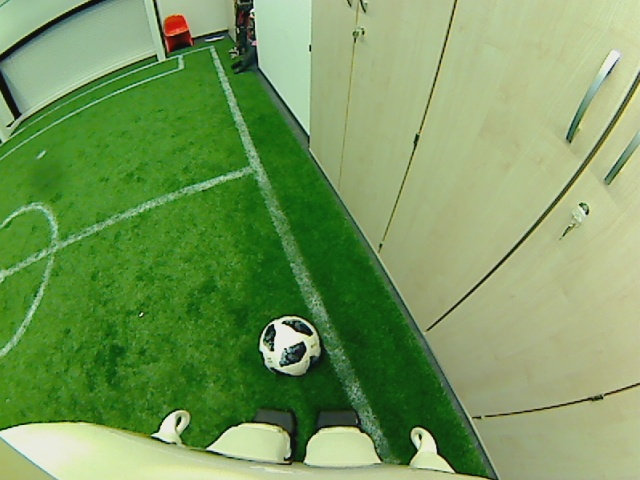ball: (257, 312, 322, 376)
